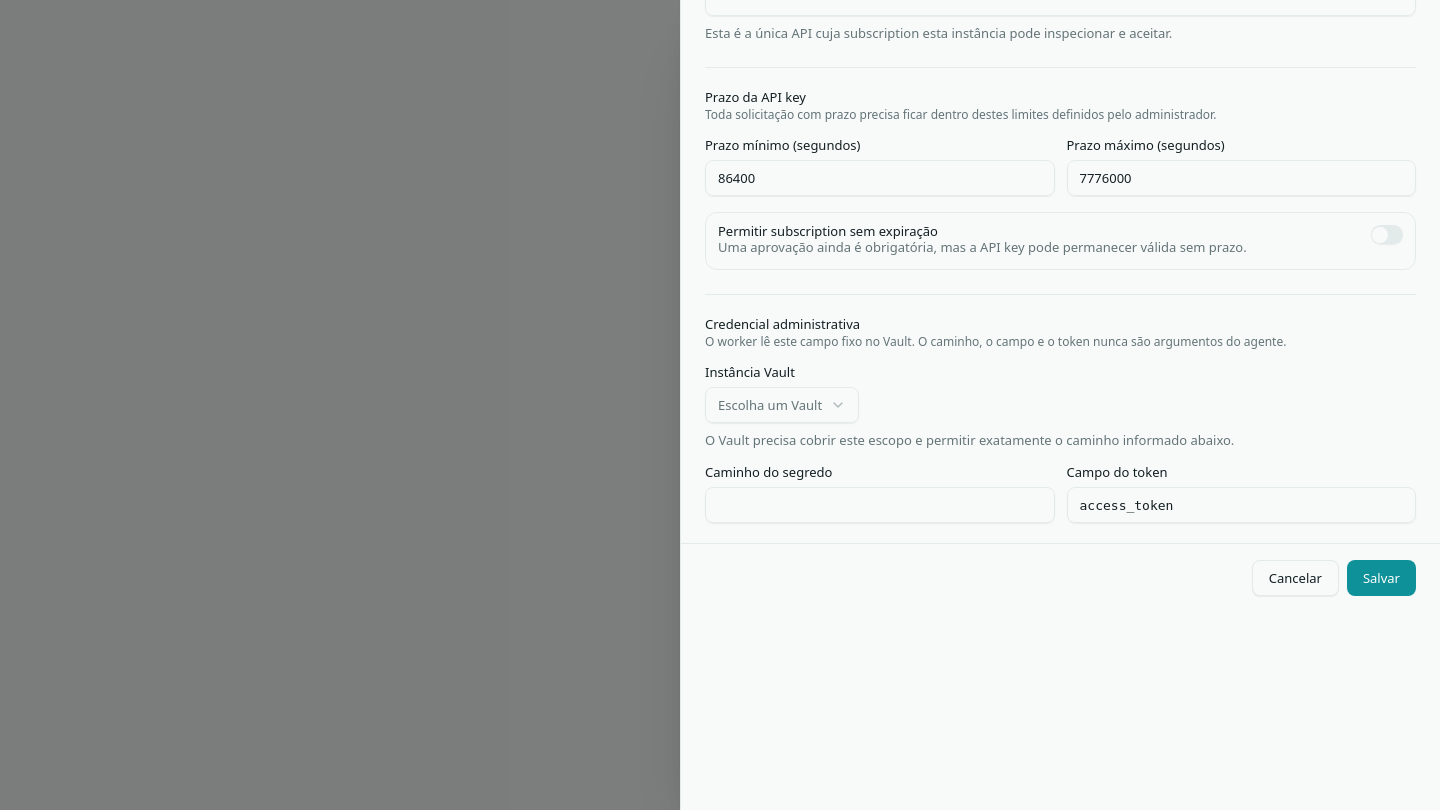
Gravitee connector instance form › offers the complete fixed boundary and a compatible Vault without accepting a token
(page scrolled)
Check: the number field labelled "Prazo mínimo (segundos)" holds "86400", box x1=705 y1=160 x2=1054 y2=196
Check: the number field labelled "Prazo máximo (segundos)" holds "7776000", box x1=1066 y1=160 x2=1416 y2=196
Click the dropdown named "Instância Vault" at (782, 405), box x1=705 y1=387 x2=859 y2=423
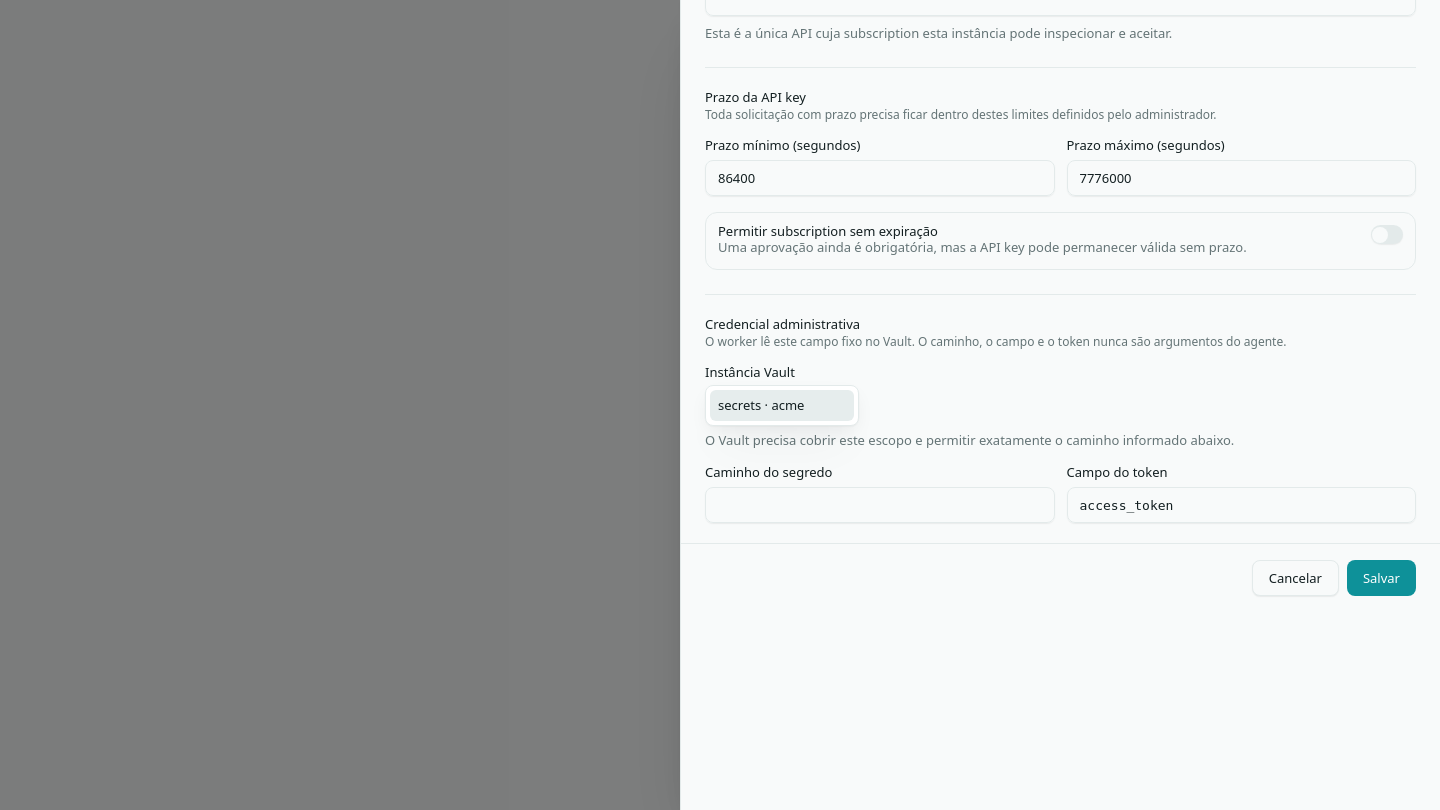
Check: the option "secrets · acme" is shown, box x1=710 y1=390 x2=854 y2=421
